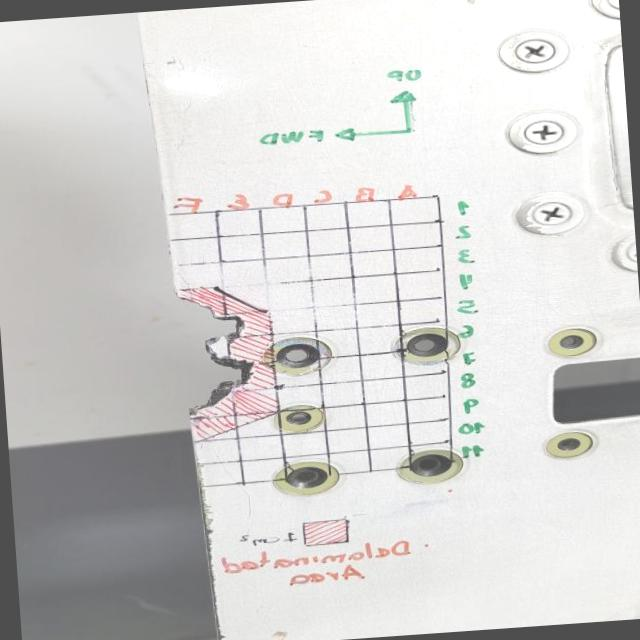Missing Fastener: (388, 302, 468, 369), (264, 317, 342, 383), (530, 315, 620, 370), (387, 432, 471, 490), (265, 456, 345, 506), (538, 428, 606, 466), (274, 402, 328, 435)
